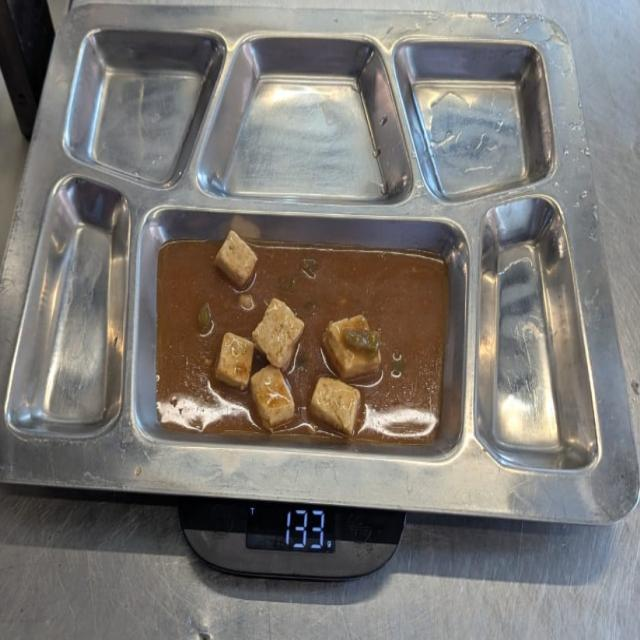Paneer Curry: (157, 228, 445, 444)
